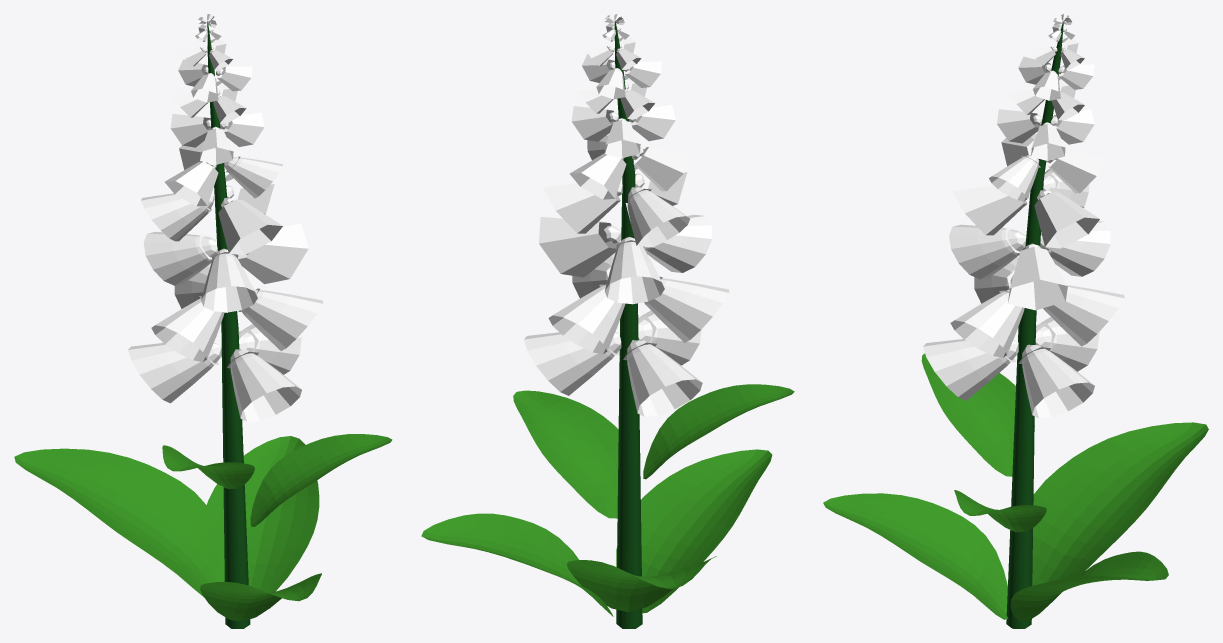
File: flower 1.fbx
3 views of the same model, side by side, from view 1: azimuth 30°, elevation 25°; view 2: azimuth 150°, elevation 25°; view 3: azimuth 270°, elevation 25° (orthographic). The views are drawn at different scales.
Visible parts, largest first — view 1: Flower.025; view 2: Flower.025; view 3: Flower.025.
Boxes of the visible parts, x1,y1,x2,y2 form: Flower.025: (14,14,392,628); Flower.025: (421,14,794,628); Flower.025: (823,14,1208,628).
Bounding box in the file's own units: 1.51 × 3.22 × 1.86.
